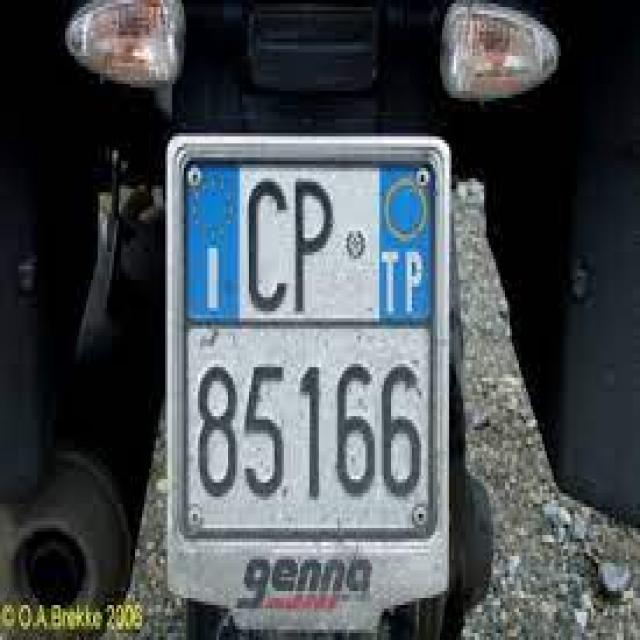license_plate: (160, 126, 454, 629)
